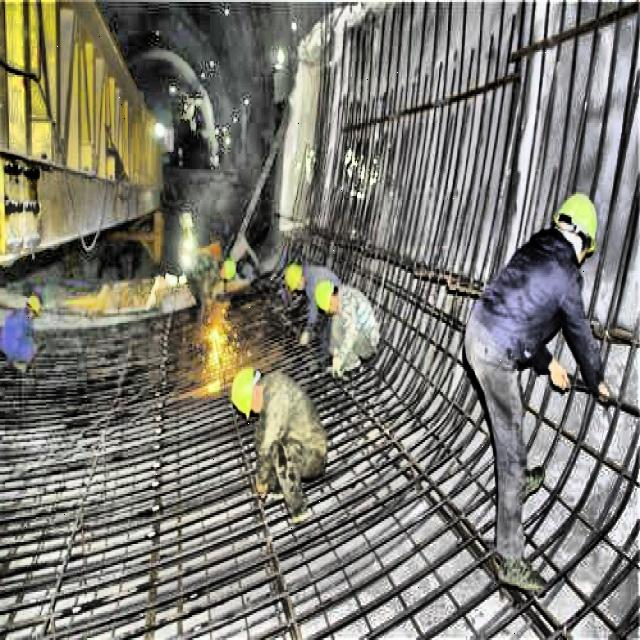helmet: (554, 186, 602, 262), (229, 361, 266, 419), (312, 275, 342, 317), (279, 258, 309, 298), (213, 253, 240, 284), (20, 288, 44, 322)
